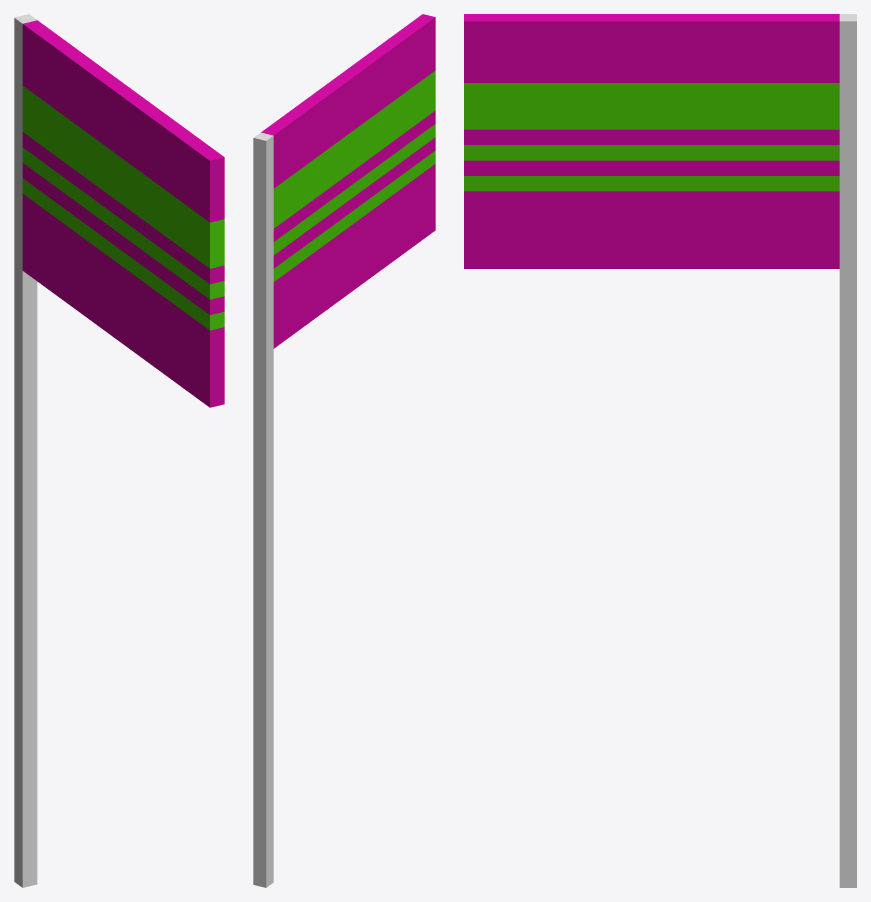
The model's file is flagALIEN.FBX.
3 renders of one model, left to right at view 1: azimuth 30°, elevation 25°; view 2: azimuth 150°, elevation 25°; view 3: azimuth 270°, elevation 25°, orthographic. The views are drawn at different scales.
Parts seen in each view (by area): view 1: default; view 2: default; view 3: default.
Part boxes in pixels (left/top/right/bottom): default: left=14, top=14, right=224, bottom=887; default: left=253, top=14, right=435, bottom=887; default: left=464, top=14, right=856, bottom=887.
Size of the model in its own units: 1 by 23 by 56.
Materials: 1 (1 with a texture image).
